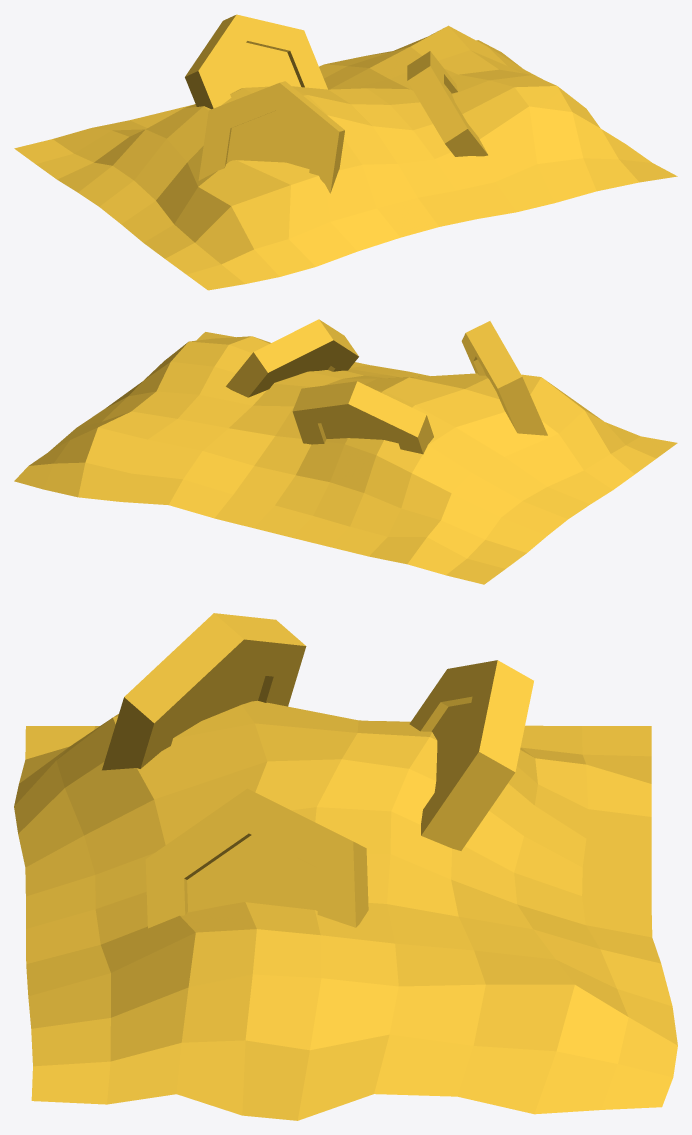
File: n2_chests_gold_yellow_0_lev2.glb
3 renders of one model, top to bottom at view 1: azimuth 30°, elevation 25°; view 2: azimuth 150°, elevation 25°; view 3: azimuth 270°, elevation 25°, orthographic. The views are drawn at different scales.
Parts seen in each view (by area): view 1: n2_chests_gold_yellow_0_lev2; view 2: n2_chests_gold_yellow_0_lev2; view 3: n2_chests_gold_yellow_0_lev2.
Part boxes in pixels (x1,y1,x2,y2): n2_chests_gold_yellow_0_lev2: (14,14,677,290); n2_chests_gold_yellow_0_lev2: (14,319,677,584); n2_chests_gold_yellow_0_lev2: (14,613,677,1120).
Bounding box in the file's own units: 1.04 × 0.3338 × 0.7811.
